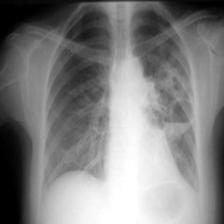tuberculosis: (39, 0, 201, 200)
